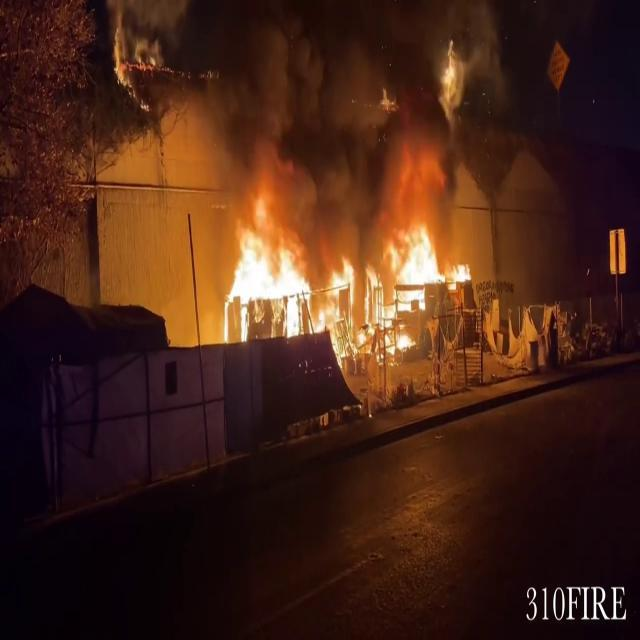Fire: (212, 211, 472, 366)
Smoke: (106, 0, 458, 230)
